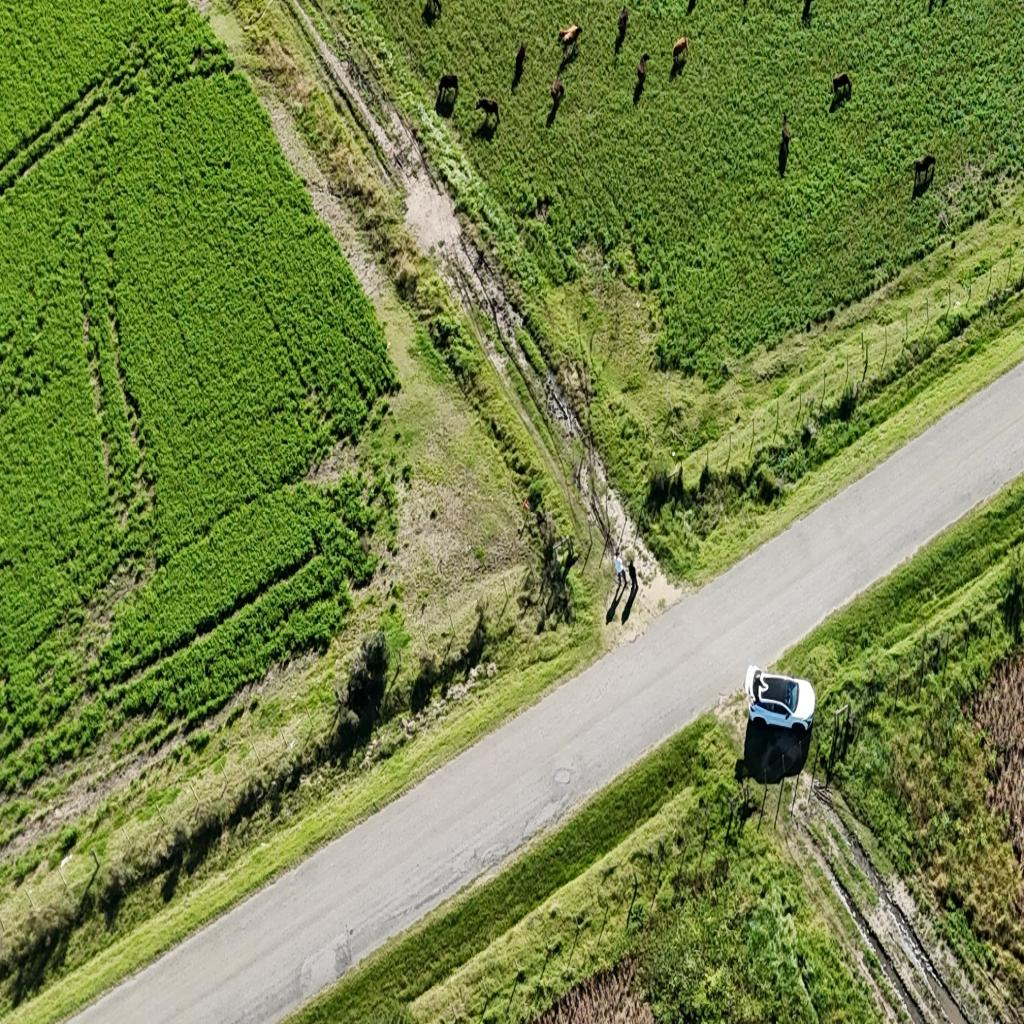cow: (558, 23, 582, 62), (436, 73, 460, 111), (912, 154, 934, 192), (511, 40, 526, 86), (475, 96, 499, 124), (832, 71, 852, 101), (615, 5, 629, 46), (635, 52, 649, 92), (672, 35, 688, 70), (549, 77, 565, 112), (780, 112, 791, 148), (423, 0, 440, 22), (802, 0, 814, 20)
